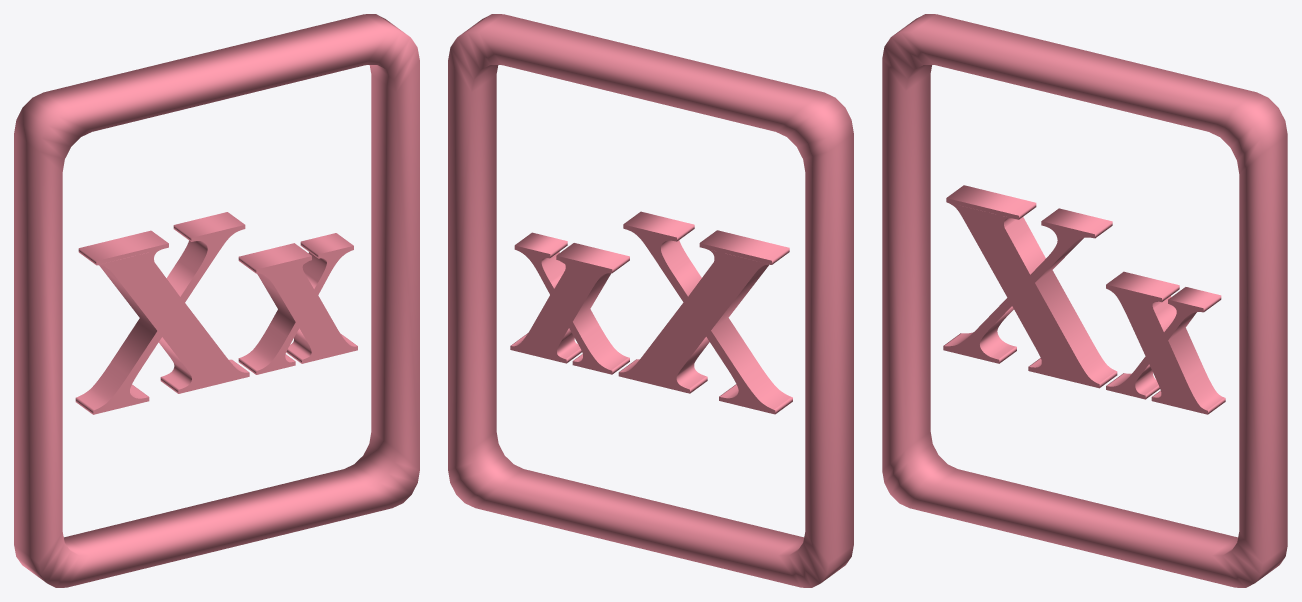
File: Letter_X.gltf
3 views of the same model, side by side, from view 1: azimuth 30°, elevation 25°; view 2: azimuth 150°, elevation 25°; view 3: azimuth 330°, elevation 25° (orthographic).
Parts seen in each view (by area): view 1: Letters.025; view 2: Letters.025; view 3: Letters.025.
Boxes of the visible parts, x1,y1,x2,y2 form: Letters.025: (14,14,419,587); Letters.025: (448,14,853,587); Letters.025: (882,14,1287,587).
Bounding box in the file's own units: 1.25 × 1.49 × 0.1418.
